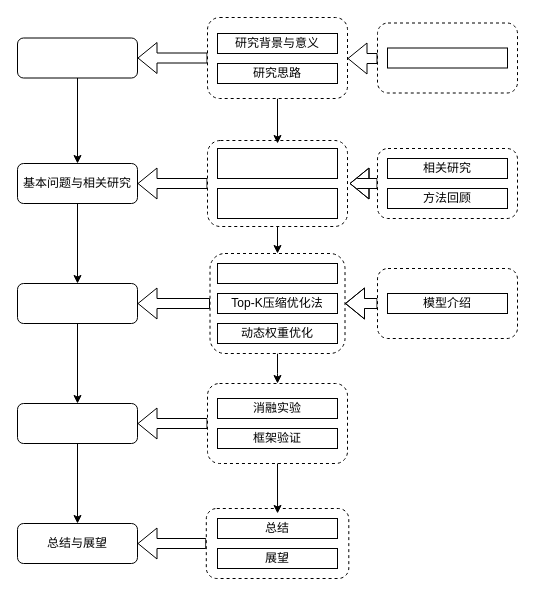
Some shapes in this 535 by 596 pixel diagram are drawn without their labels. The box of each missing label's shape, as (x1, y1, x2, y2) in pixels:
Non-IID处理: (216, 262, 338, 284)
实验验证: (16, 402, 138, 444)
提出问题: (386, 47, 508, 68)
方法介绍: (16, 282, 138, 324)
绪论: (16, 37, 138, 78)
联邦学习的定义及分类: (216, 148, 338, 178)
联邦学习通信效率相关研究: (216, 188, 338, 218)
